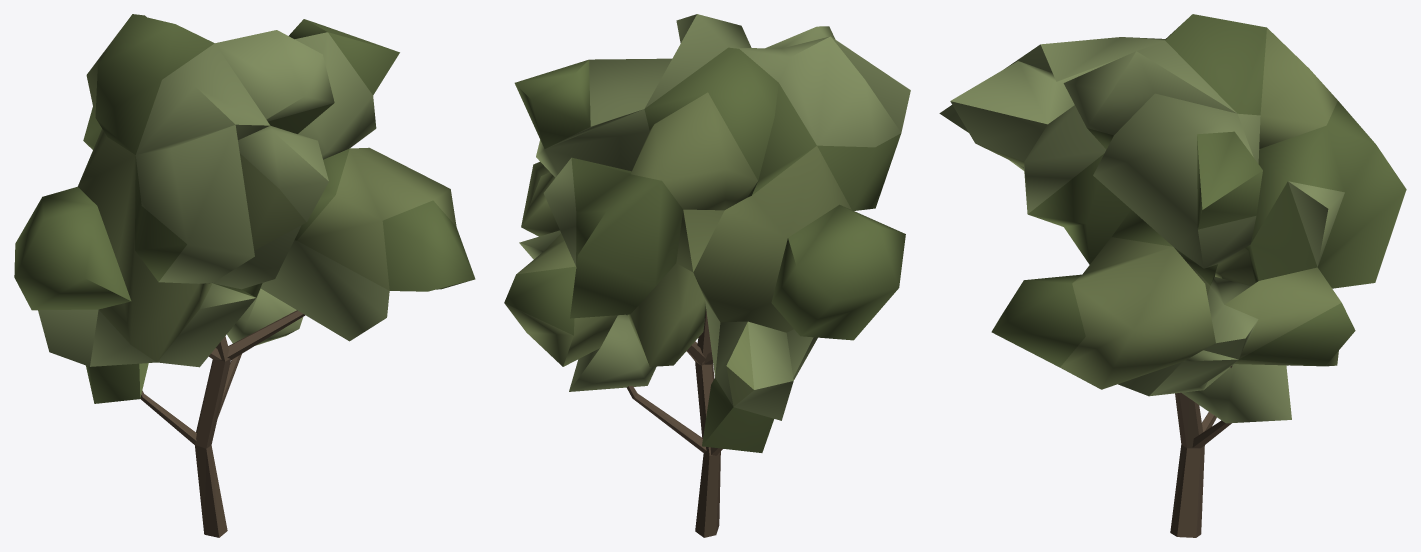
3 renders of one model, left to right at view 1: azimuth 30°, elevation 25°; view 2: azimuth 150°, elevation 25°; view 3: azimuth 270°, elevation 25°, orthographic. The views are drawn at different scales.
Parts seen in each view (by area): view 1: Лиственное · широкое; view 2: Лиственное · широкое; view 3: Лиственное · широкое.
Boxes of the visible parts, x1,y1,x2,y2 form: Лиственное · широкое: (14,14,475,537); Лиственное · широкое: (504,14,910,537); Лиственное · широкое: (939,14,1406,537).
Size of the model in its own units: 17.25 by 20.77 by 17.41.
